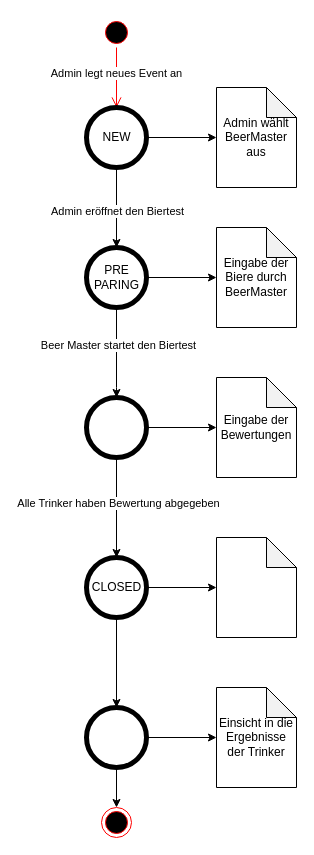
The diagram is 314 pixels wide and 855 high, and some of its shapes have lost their labels. Each missing label, with the centre of its shape:
DONE: the point at 116,737
OPEN: the point at 116,427
Präsentation der Ergebnisse durch BeerMaster: the point at 256,587
